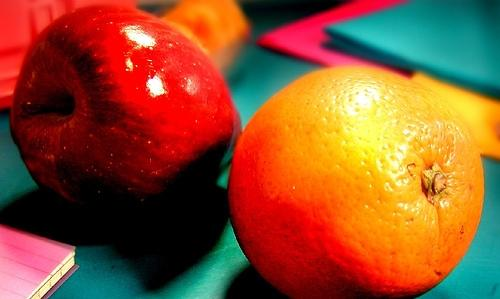apple: (9, 3, 243, 223)
orange: (227, 64, 486, 298), (162, 2, 230, 55)
